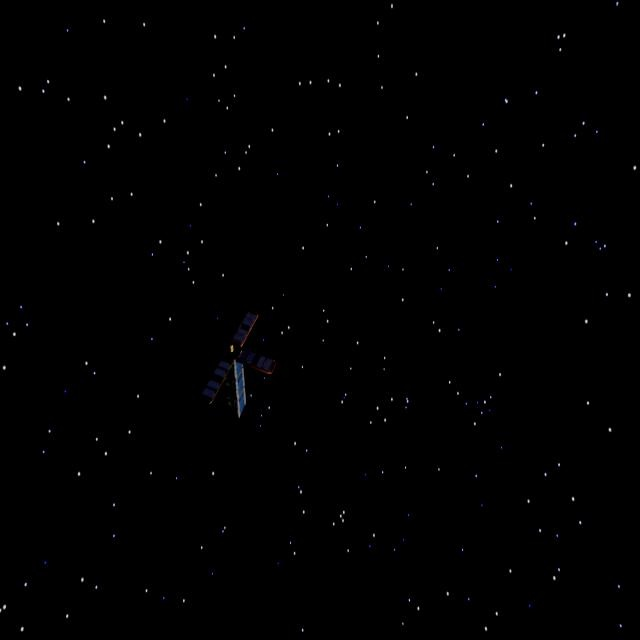satellite: (187, 302, 282, 427)
